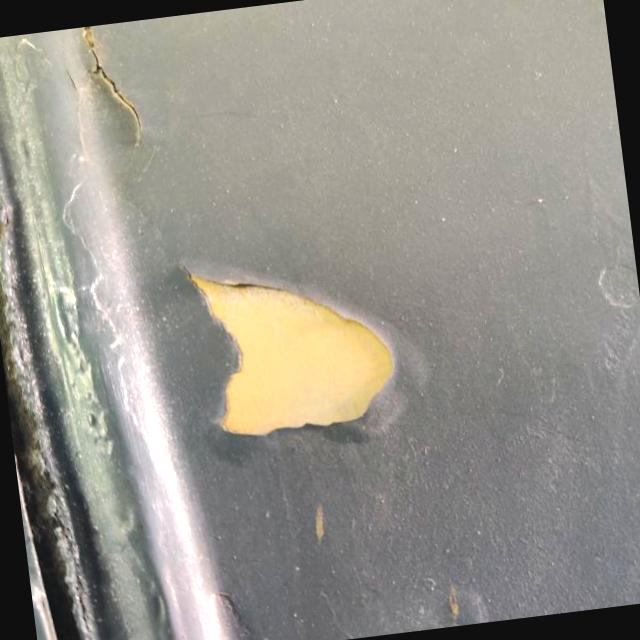crack: (61, 19, 162, 161)
paint-off: (140, 225, 426, 472)
